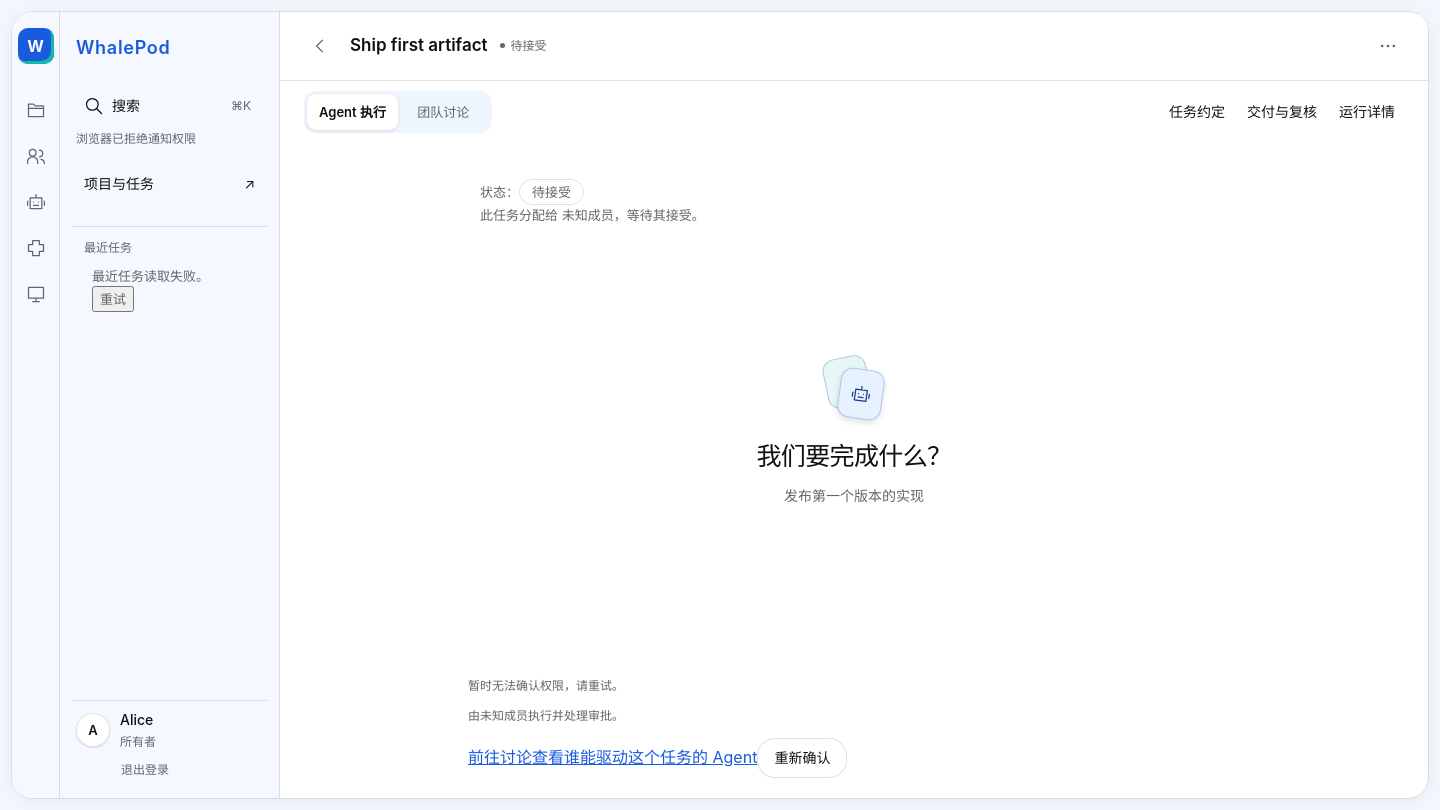
Scenario: ReactBits motion experience: host state survives presentation transitions › preview closes and reopens without downloading the same immutable artifact again
Click the button "交付与复核".
click(1282, 112)  # box [1238,92,1326,132]
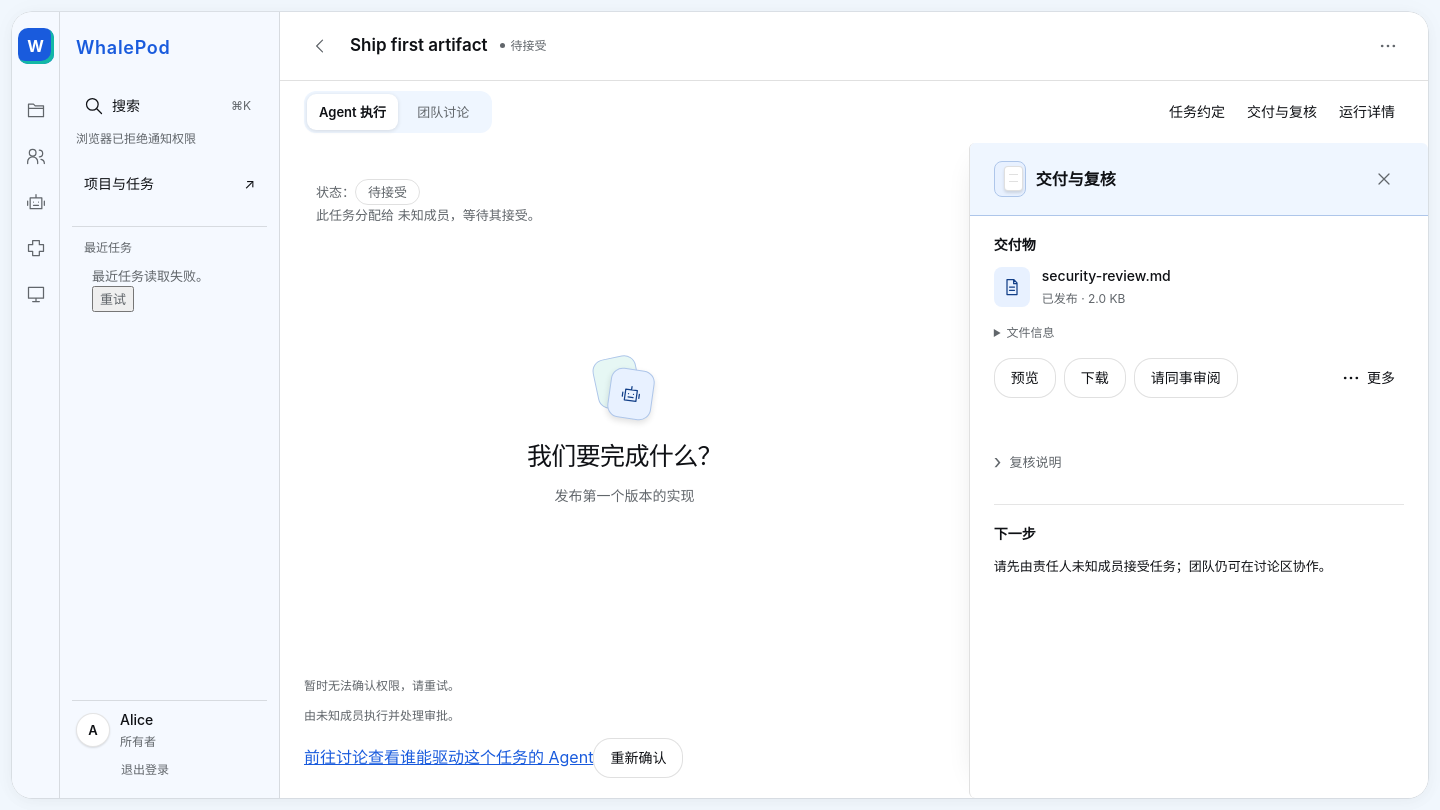
Click the button "预览".
click(1025, 378)  # box [994,358,1056,398]
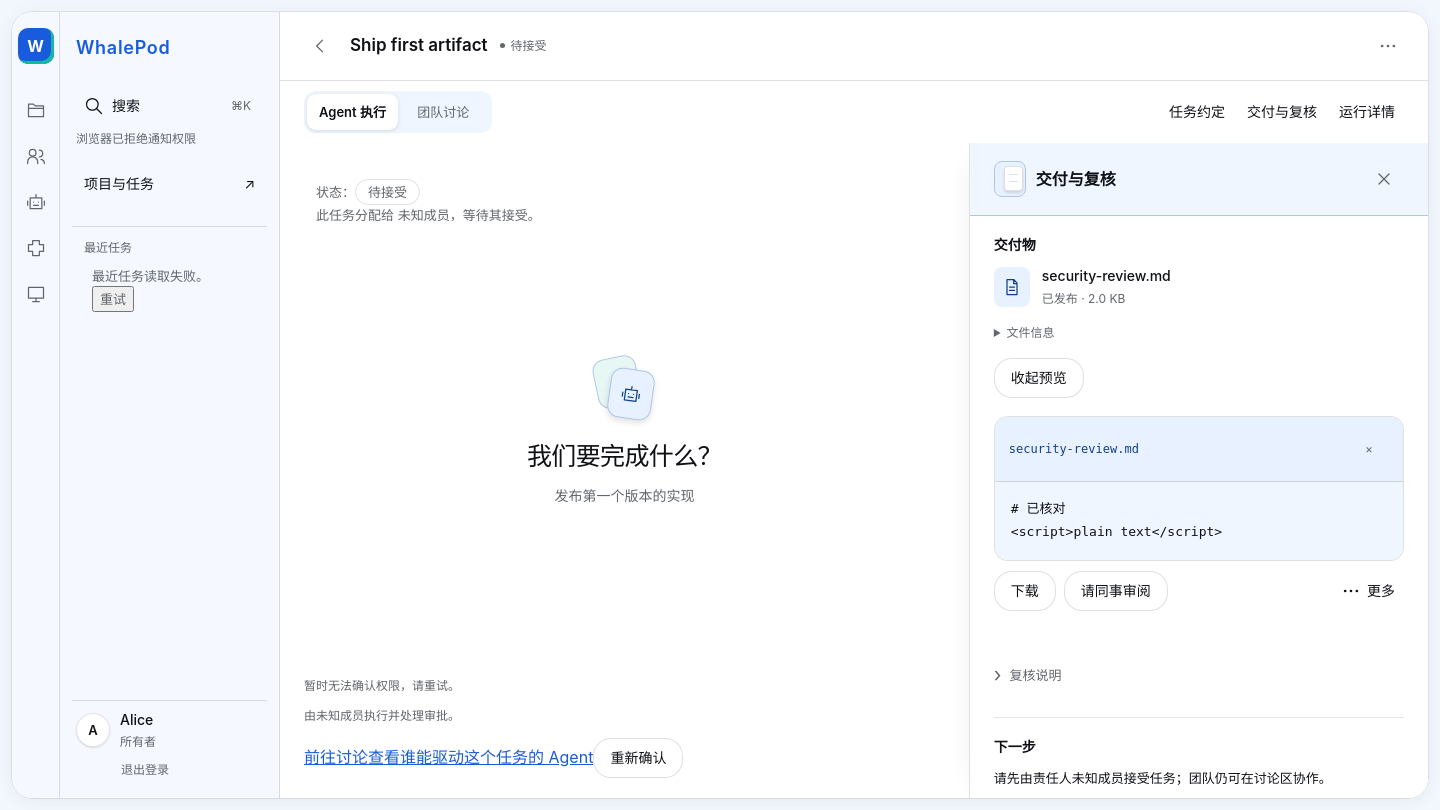
Result: the text with test id "artifact-preview" shows "<script>plain text</script>" at [1011,501,1222,539]
Click the button "收起预览".
click(1039, 378)  # box [994,358,1084,398]
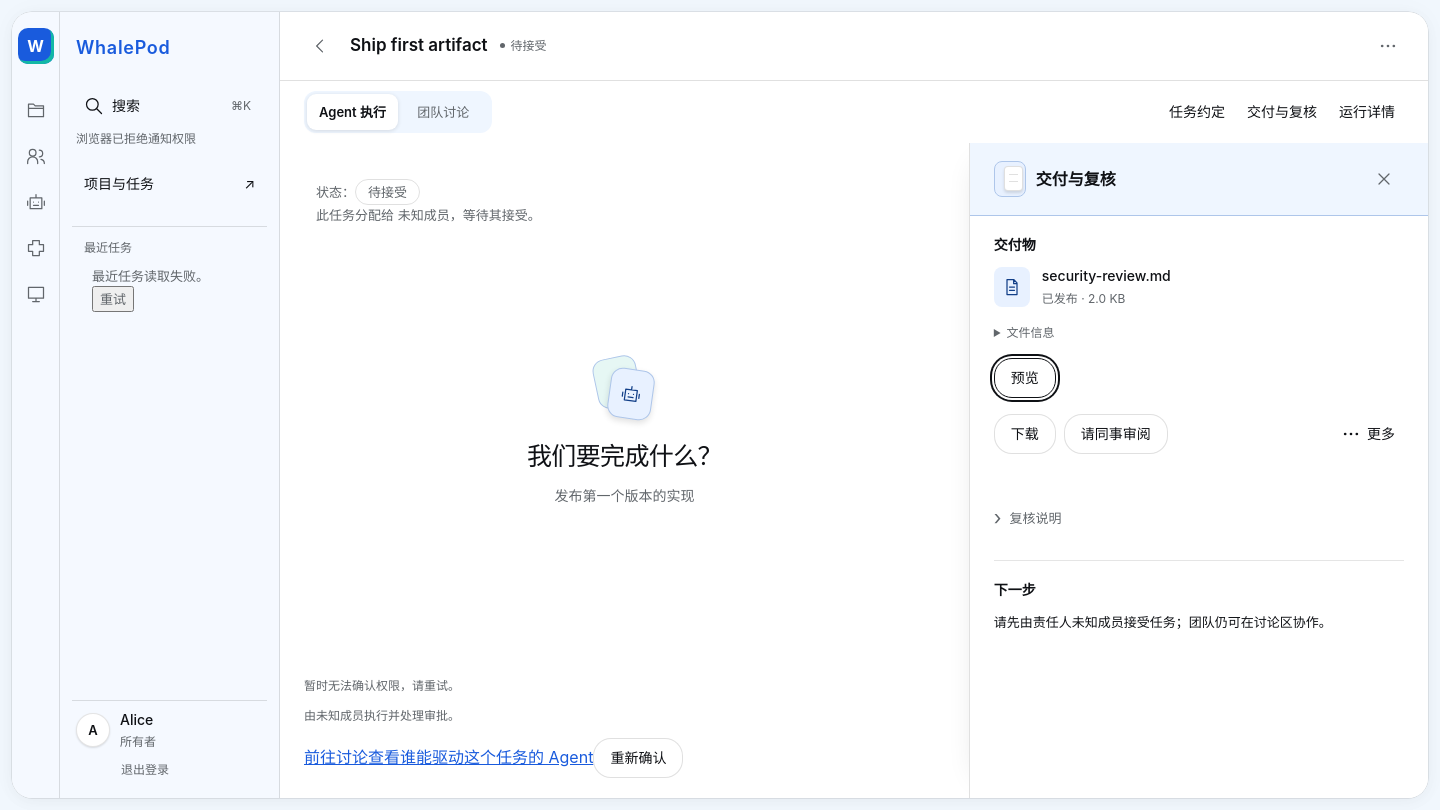
Click the button "预览".
click(1025, 378)  # box [994,358,1056,398]
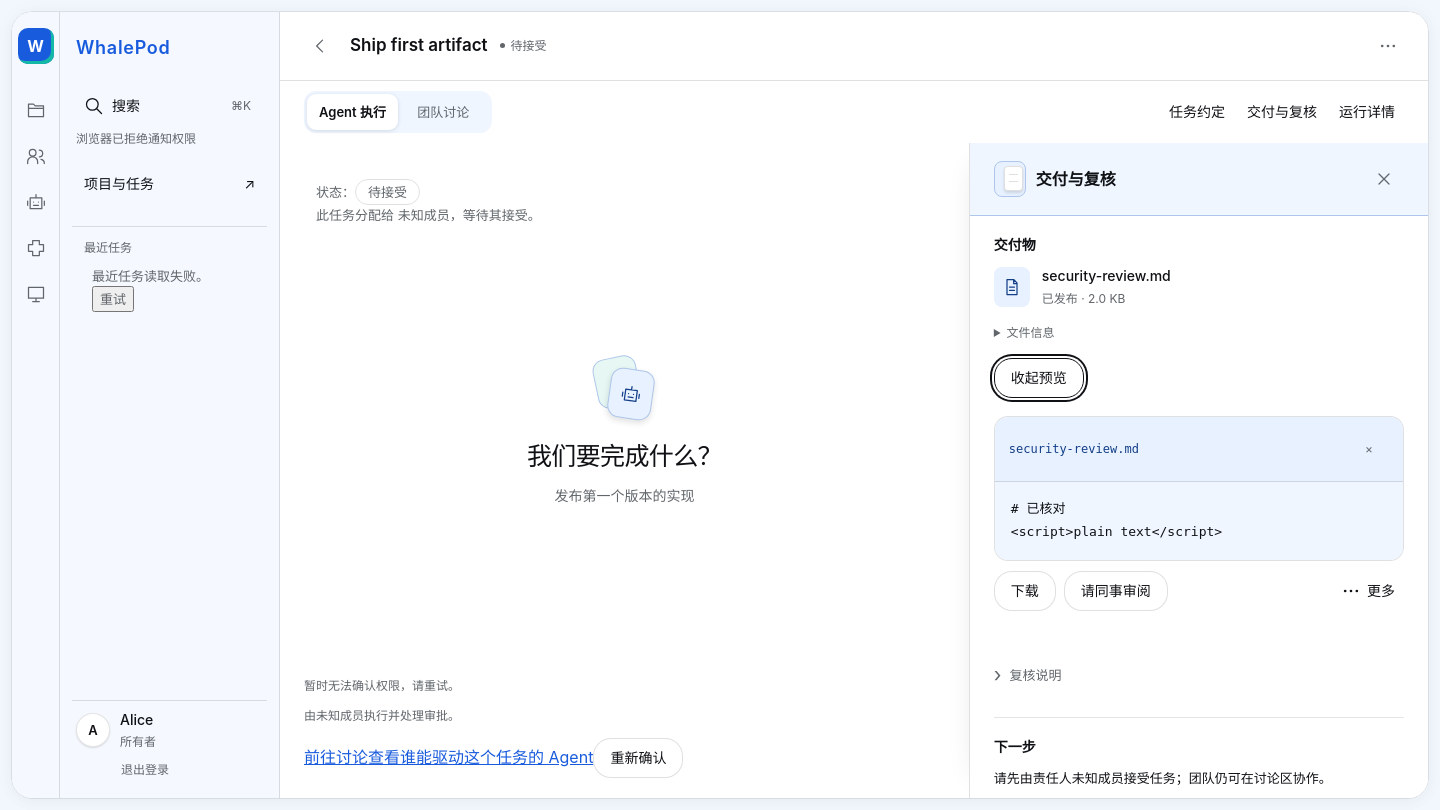
Result: the text with test id "artifact-preview" shows "已核对" at [1011,501,1222,539]
